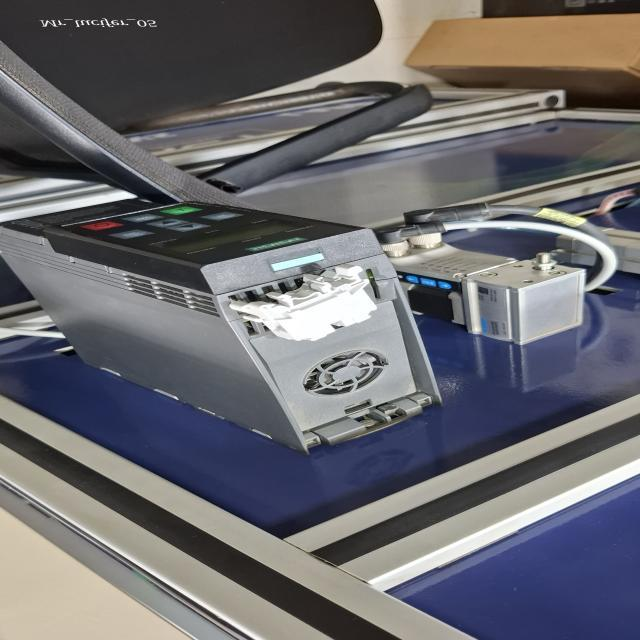Inverted: (227, 262, 383, 344)
